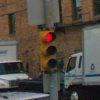Traffic light: (30, 23, 68, 82)
